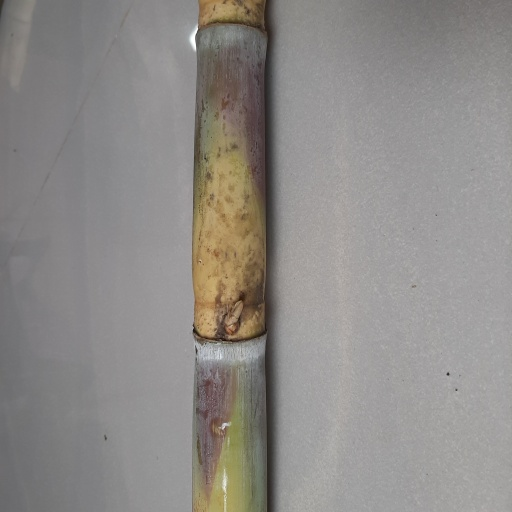Sprouted_Bud: (220, 300, 243, 336)
